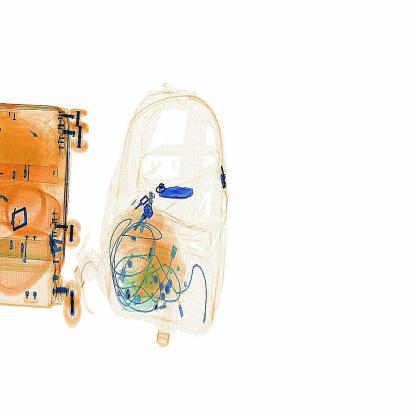knife: (158, 183, 200, 207)
